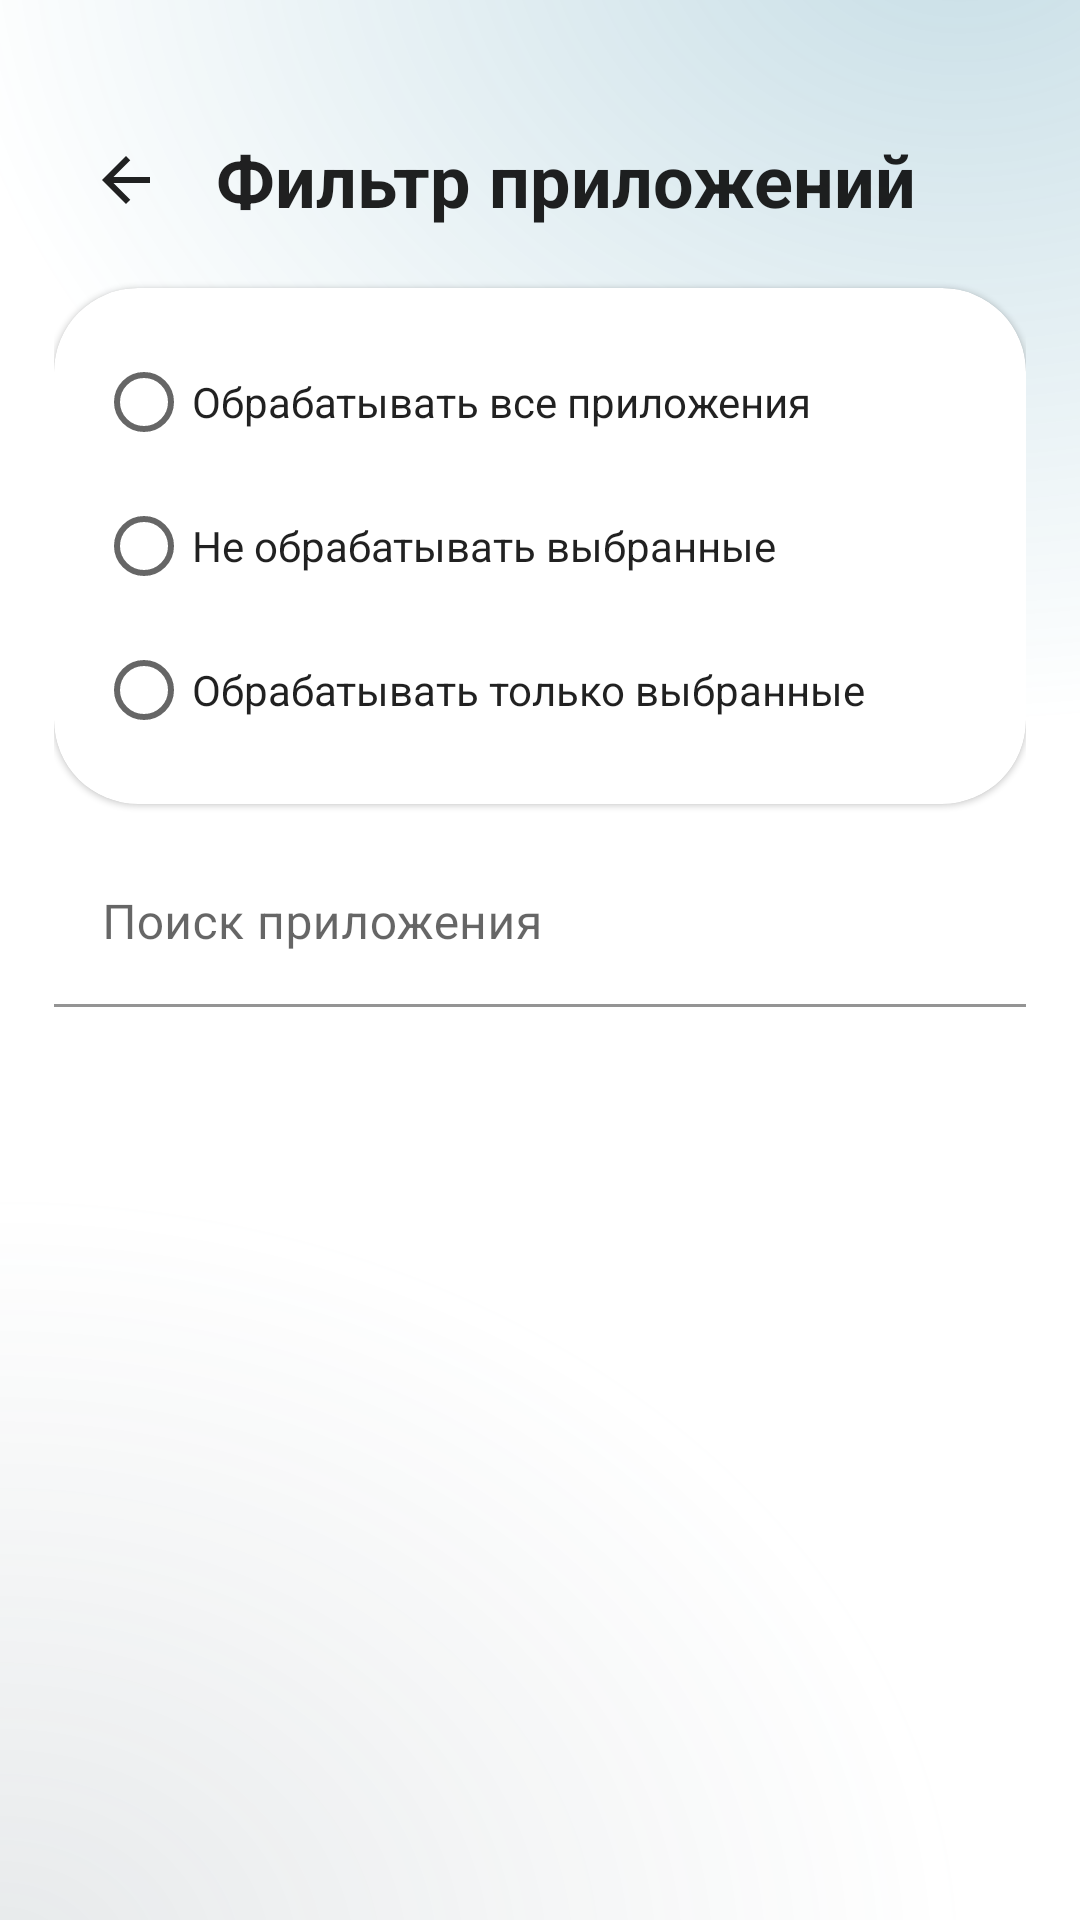

Locate icon controls on the screen. Image size 1080x1920, boxes as (x1, y1, x2, y2).
Назад: (102, 156, 150, 204)
